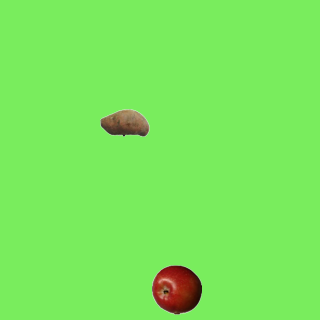Apple Braeburn: (151, 264, 201, 314)
Potato Sweet: (99, 97, 149, 147)
